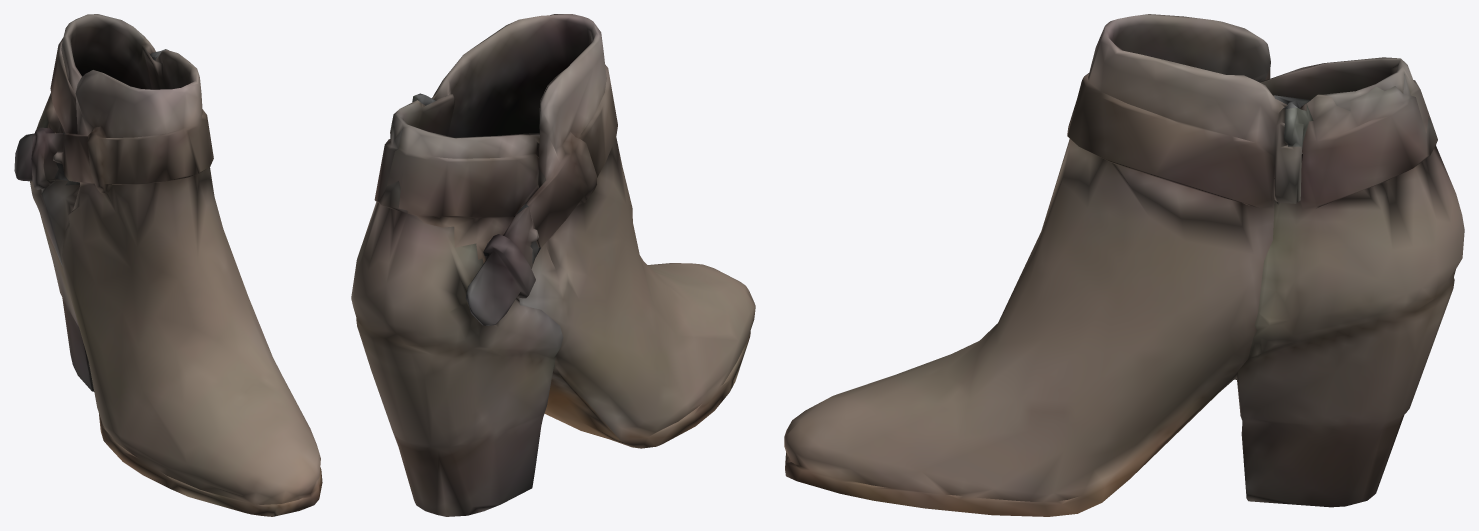
Rendered from Hilary-medium.glb.
The picture shows the model from 3 angles, left to right: view 1: azimuth 30°, elevation 25°; view 2: azimuth 150°, elevation 25°; view 3: azimuth 270°, elevation 25°; orthographic projection. The views are drawn at different scales.
Visible parts, largest first — view 1: Hilary; view 2: Hilary; view 3: Hilary.
Part boxes in pixels (bbox=[...]): Hilary: bbox=[14, 14, 322, 516]; Hilary: bbox=[351, 14, 755, 516]; Hilary: bbox=[784, 14, 1464, 516].
Size of the model in its own units: 0.0821 by 0.1717 by 0.2352.
1 material, 1 textured.
